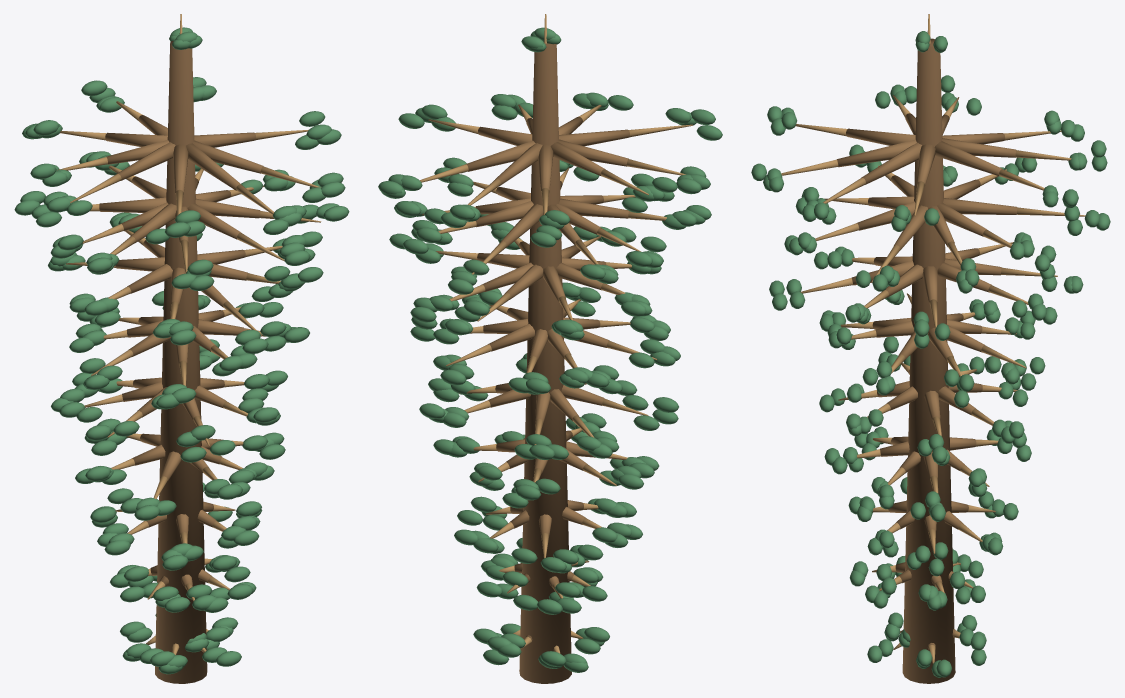
File: conifer_tree_a.glb
3 renders of one model, left to right at view 1: azimuth 30°, elevation 25°; view 2: azimuth 150°, elevation 25°; view 3: azimuth 270°, elevation 25°, orthographic.
Visible parts, largest first — view 1: conifer_tree_a_trunk, conifer_tree_a_branch_0_7_a, conifer_tree_a_branch_0_5_a, conifer_tree_a_branch_0_8_a, conifer_tree_a_branch_1_3_a, conifer_tree_a_branch_1_8_a, conifer_tree_a_branch_0_0_a, conifer_tree_a_branch_1_5_a, conifer_tree_a_branch_0_3_a, conifer_tree_a_branch_0_6_a, conifer_tree_a_branch_1_7_a, conifer_tree_a_branch_0_4_a (+3 smaller); view 2: conifer_tree_a_trunk, conifer_tree_a_branch_1_5_a, conifer_tree_a_branch_0_1_a, conifer_tree_a_branch_0_6_a, conifer_tree_a_branch_0_4_a, conifer_tree_a_branch_0_5_a, conifer_tree_a_branch_1_1_a, conifer_tree_a_branch_0_2_a, conifer_tree_a_branch_1_2_a, conifer_tree_a_branch_0_0_a, conifer_tree_a_branch_3_1_a, conifer_tree_a_branch_0_3_a (+4 smaller); view 3: conifer_tree_a_trunk, conifer_tree_a_branch_0_1_a, conifer_tree_a_branch_0_7_a, conifer_tree_a_branch_1_2_a, conifer_tree_a_branch_0_8_a, conifer_tree_a_branch_0_2_a, conifer_tree_a_branch_0_6_a, conifer_tree_a_branch_1_1_a, conifer_tree_a_branch_1_8_a.
Boxes of the visible parts, left/top/right/bottom form: conifer_tree_a_trunk: left=155, top=41, right=207, bottom=683; conifer_tree_a_branch_0_7_a: left=186, top=143, right=241, bottom=190; conifer_tree_a_branch_0_5_a: left=117, top=142, right=175, bottom=180; conifer_tree_a_branch_0_8_a: left=192, top=140, right=262, bottom=173; conifer_tree_a_branch_1_3_a: left=99, top=197, right=166, bottom=212; conifer_tree_a_branch_1_8_a: left=195, top=198, right=260, bottom=218; conifer_tree_a_branch_0_0_a: left=194, top=132, right=255, bottom=147; conifer_tree_a_branch_1_5_a: left=130, top=203, right=176, bottom=242; conifer_tree_a_branch_0_3_a: left=105, top=132, right=167, bottom=146; conifer_tree_a_branch_0_6_a: left=172, top=144, right=188, bottom=192; conifer_tree_a_branch_1_7_a: left=187, top=203, right=241, bottom=239; conifer_tree_a_branch_0_4_a: left=106, top=140, right=169, bottom=164; conifer_tree_a_trunk: left=519, top=42, right=571, bottom=683; conifer_tree_a_branch_1_5_a: left=559, top=198, right=628, bottom=218; conifer_tree_a_branch_0_1_a: left=466, top=140, right=535, bottom=171; conifer_tree_a_branch_0_6_a: left=559, top=129, right=629, bottom=146; conifer_tree_a_branch_0_4_a: left=550, top=142, right=604, bottom=175; conifer_tree_a_branch_0_5_a: left=557, top=139, right=628, bottom=166; conifer_tree_a_branch_1_1_a: left=476, top=201, right=533, bottom=227; conifer_tree_a_branch_0_2_a: left=495, top=143, right=542, bottom=185; conifer_tree_a_branch_1_2_a: left=500, top=204, right=543, bottom=247; conifer_tree_a_branch_0_0_a: left=478, top=126, right=532, bottom=145; conifer_tree_a_branch_3_1_a: left=488, top=324, right=534, bottom=351; conifer_tree_a_branch_0_3_a: left=538, top=144, right=553, bottom=190; conifer_tree_a_trunk: left=902, top=38, right=955, bottom=683; conifer_tree_a_branch_0_1_a: left=934, top=141, right=1002, bottom=175; conifer_tree_a_branch_0_7_a: left=837, top=139, right=916, bottom=167; conifer_tree_a_branch_1_2_a: left=943, top=198, right=1017, bottom=214; conifer_tree_a_branch_0_8_a: left=861, top=142, right=922, bottom=184; conifer_tree_a_branch_0_2_a: left=942, top=138, right=1015, bottom=157; conifer_tree_a_branch_0_6_a: left=846, top=128, right=915, bottom=145; conifer_tree_a_branch_1_1_a: left=937, top=203, right=987, bottom=236; conifer_tree_a_branch_1_8_a: left=894, top=205, right=927, bottom=250.
Size of the model in its own units: 3.26 by 6.99 by 3.46.
